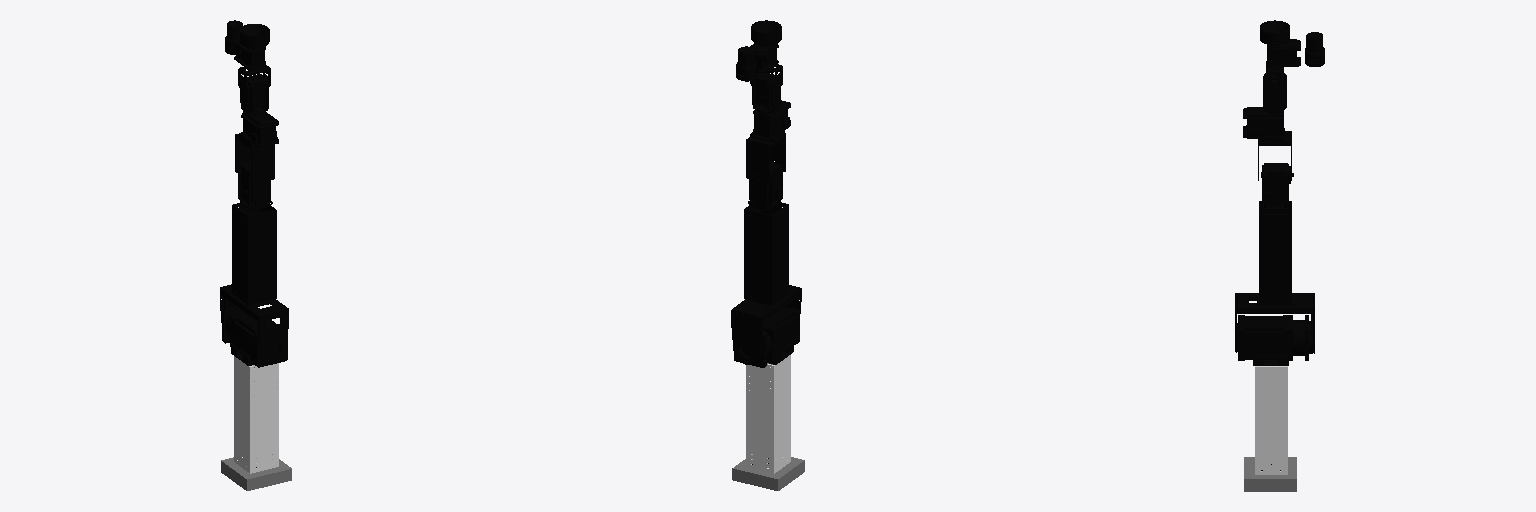
--- What the picture shows (computed from the rendered views, not written in the file) ---
The picture shows the robot from 3 angles, left to right: view 1: azimuth 30°, elevation 25°; view 2: azimuth 150°, elevation 25°; view 3: azimuth 270°, elevation 25°; orthographic projection.
Robot: proarm — 20 links, 19 joints (6 revolute, 13 fixed); root link base_link; default pose: every joint at zero.
Links seen in each view (by area): view 1: link_pilar1, link_pilar2, link_bracket_f54, link_motor_h54, base_link, link_bracket5l, link_motor_mx642, link_motor_mx641, link_motor_mx281, link_eeff, link_motor_mx282; view 2: link_pilar1, link_pilar2, link_bracket_f54, link_motor_h54, link_bracket5l, base_link, link_motor_mx641, link_motor_mx642, link_motor_mx281, link_eeff, link_camera, link_motor_mx282; view 3: link_pilar1, link_pilar2, link_motor_h54, link_bracket_f54, base_link, link_motor_mx641, link_motor_mx642, link_motor_mx282, link_eeff, link_motor_mx281, link_camera.
Link boxes in pixels (x1,y1,x2,y2): link_pilar1: (234, 356, 278, 473); link_pilar2: (232, 203, 276, 304); link_bracket_f54: (220, 284, 288, 360); link_motor_h54: (222, 307, 278, 365); base_link: (221, 457, 291, 490); link_bracket5l: (235, 134, 274, 184); link_motor_mx642: (241, 108, 278, 147); link_motor_mx641: (238, 161, 270, 208); link_motor_mx281: (240, 74, 269, 112); link_eeff: (240, 24, 269, 48); link_motor_mx282: (234, 38, 265, 70); link_pilar1: (746, 355, 790, 473); link_pilar2: (744, 202, 788, 305); link_bracket_f54: (731, 285, 801, 364); link_motor_h54: (734, 308, 798, 367); link_bracket5l: (746, 133, 785, 183); base_link: (732, 457, 804, 490); link_motor_mx641: (749, 162, 782, 208); link_motor_mx642: (753, 100, 790, 137); link_motor_mx281: (751, 73, 780, 110); link_eeff: (751, 20, 781, 45); link_camera: (736, 46, 756, 81); link_motor_mx282: (750, 43, 778, 72); link_pilar1: (1255, 366, 1287, 474); link_pilar2: (1259, 201, 1291, 304); link_motor_h54: (1241, 315, 1312, 360); link_bracket_f54: (1235, 293, 1314, 353); base_link: (1244, 457, 1296, 491); link_motor_mx641: (1261, 163, 1293, 207); link_motor_mx642: (1243, 107, 1283, 138); link_motor_mx282: (1267, 39, 1300, 68); link_eeff: (1260, 20, 1289, 45); link_motor_mx281: (1263, 72, 1286, 110); link_camera: (1305, 32, 1324, 66).
Size in the robot's own frame: 0.08 by 0.1339 by 0.7516 metres.
Meshes: 16 distinct files referenced, 18 mesh visuals loaded (16 binary STL).

URDF robot description (proarm):
<robot  name="proarm">

<gazebo>
  <plugin name="gazebo_ros_control" filename="libgazebo_ros_control.so">
 <robotNamespace>/robot1</robotNamespace>
	 	<robotSimType>gazebo_ros_control/DefaultRobotHWSim</robotSimType>  <!--asdf--> 
  </plugin>
</gazebo>


 <material name="blue">
    <color rgba="0 0 0.8 1"/>
  </material>

  <material name="white">
    <color rgba="0.9 0.9 0.9 1"/>
  </material>
  <material name="pure_white">
    <color rgba="1 1 1 1"/>
  </material>
    <material name="clear_gray">
    <color rgba="0.5 0.5 0.5 1"/>
  </material>
  
  <material name="black">
    <color rgba="0.05 0.05 0.05 0.95"/>
  </material>
  

<!--PLANO BASE 

  <link name="world"/>
   <joint name="fixed" type="fixed">
    <parent link="world"/>
    <child link="base_link"/>
<origin  xyz="0 0.0 0.01"  rpy="0.0 0 0" />
  </joint>-->

<!--PLANO BASE 

  <link name="world"/>
   <joint name="fixed" type="fixed">
    <parent link="world"/>
    <child link="base_link"/>
<origin  xyz="0 0.0 0.01"  rpy="0.0 0 0" />
  </joint>-->

  <link name="base_link">
  <inertial>
      <origin  xyz="0.0 0.0 0.0"  rpy="0 0 0" />
      <mass  value="0.01" />
      <inertia ixx="0.016667333" ixy="0.0" ixz="0.00"  iyy="0.016667333"  iyz="0.0" izz="0.016667333" />
    </inertial>
    <visual>
      <origin rpy="0 0 0" xyz="0 0 0.0"/>
      <geometry>
        <box size="0.08 0.08 .02"/>
        <!--making it slightly bigger in x and z direction-->
      </geometry>
      <material name="clear_gray"/>
    </visual>
    <collision>
      <origin rpy="0 0 0" xyz="0 0 0.0"/>
      <geometry>
        <box size="1 1 .01"/>
        <!--making it slightly bigger in x and z direction-->
      </geometry>
    </collision>
  </link>
  
 
  
  <!--FIRSTMotorBASE   JOINT  1  H42-20-S300-->
   <joint name="joint1" type="revolute">
    <parent link="base_link"/>
    <child link="link_motor_h42"/>
     <origin  xyz="0 0.0 0.005"  rpy="0.0 3.141592654 0.0" />
    <axis  xyz="0 0 1" />
    <limit  lower="-3.1" upper="3.1" effort="10"  velocity="3.57" />
  </joint>

  <link  name="link_motor_h42">
    <inertial>
     <origin  xyz="0 0 0.0"  rpy="0 0 0" />
      <mass  value="0.4" />
      <inertia ixx="0.0001" ixy="0.0" ixz="0.000"  iyy="0.0001"  iyz="0.0" izz="0.0001" />
    </inertial>
    <visual>
      <origin  xyz="0 0 0.0"  rpy="0 0 0" />
      <geometry>     
        <mesh filename="package://arm/meshes/dynamixel_pro/h42.stl" scale="0.001 0.001 0.001"/>
      </geometry>    
       <material name="black"/>     
    </visual>
    <collision>
    <origin  xyz="0 0 0.0"  rpy="0 0 0" />
      <geometry>
        <mesh filename="package://arm/meshes/dynamixel_pro/h42.stl" scale="0.001 0.001 0.001" />
      </geometry>
    </collision>
  </link>


   <!--Connection motor base, pilar-->
   <joint name="joint_motor_h42_base" type="fixed">
    <parent link="link_motor_h42"/>
    <child link="link_pilar1"/>
     <origin  xyz="0.025 0.046 -0.185"  rpy="0 0 0" />
     
  </joint>
  
 <link  name="link_pilar1">
    <inertial>
     <origin  xyz="0 -0.02 0.0"  rpy="0 0 0" />
      <mass  value="0.1" />
      <inertia ixx="0.0001" ixy="0.0" ixz="0.000"  iyy="0.0001"  iyz="0.0" izz="0.0001" />
    </inertial>
    <visual>
      <origin  xyz="0 -0.02 0.0"  rpy="0 0 0" />
      <geometry>     
        <mesh filename="package://arm/meshes/dynamixel_pro/50x50x180.stl" scale="0.001 0.001 0.001"/>
      </geometry>   
       <material name="white"/>
    </visual>
    <collision>
    <origin  xyz="0 -0.02 0.0"  rpy="0 0 0" />
      <geometry>
        <mesh filename="package://arm/meshes/dynamixel_pro/50x50x180.stl" scale="0.001 0.001 0.001" />
      </geometry>
    </collision>
  </link>

  <!--ADAPTADOR para   H54-100-S500-->
   <joint name="joint_conector_frp54" type="fixed">
    <parent link="link_pilar1"/>
    <child link="link_conector_frp54"/>
     <origin  xyz="-0.025 -0.045 -0.006"  rpy="-1.570796327 0.0 0.0" />
 </joint>

 <link  name="link_conector_frp54">
    <inertial>
     <origin  xyz="0 0 0.0"  rpy="0 0 0" />
      <mass  value="0.05" />
      <inertia ixx="0.0001" ixy="0.0" ixz="0.000"  iyy="0.0001"  iyz="0.0" izz="0.0001" />
    </inertial>
    <visual>
      <origin  xyz="0 0 0.0"  rpy="0 0 0" />
      <geometry>     
        <mesh filename="package://arm/meshes/dynamixel_pro/frp54a.stl" scale="0.001 0.001 0.001"/>
      </geometry>      
<material name="black"/>  
    </visual>
    <collision>
    <origin  xyz="0 0 0.0"  rpy="0 0 0" />
      <geometry>
        <mesh filename="package://arm/meshes/dynamixel_pro/frp54a.stl" scale="0.001 0.001 0.001" />
      </geometry>
    </collision>
  </link>


  <!--SEGUNDOMotor    H54-100-S500-->
   <joint name="motor_h54_base" type="fixed">
    <parent link="link_conector_frp54"/>
    <child link="link_motor_h54"/>
    <origin  xyz="0.0 0.03 0.027"  rpy=" 1.570796327 0.0 -1.570796327" />
  </joint>

 <link  name="link_motor_h54">
    <inertial>
     <origin  xyz="0 0 0.0"  rpy="0 0 0" />
      <mass  value="0.8" />
      <inertia ixx="0.0001" ixy="0.0" ixz="0.000"  iyy="0.0001"  iyz="0.0" izz="0.0001" />
    </inertial>
    <visual>
      <origin  xyz="0 0 0.0"  rpy="0 0 0" />
      <geometry>     
        <mesh filename="package://arm/meshes/dynamixel_pro/h54.stl" scale="0.001 0.001 0.001"/>
      </geometry>    
       <material name="black"/>     
    </visual>
    <collision>
    <origin  xyz="0 0 0.0"  rpy="0 0 0" />
      <geometry>
        <mesh filename="package://arm/meshes/dynamixel_pro/h54.stl" scale="0.001 0.001 0.001" />
      </geometry>
    </collision>
  </link>

  <!--Bracket FRP54h JOINT 2 -->
   <joint name="joint2" type="revolute">
    <parent link="link_motor_h54"/>
    <child link="link_bracket_f54"/>
     <origin  xyz="0.0 -0.021 0.0"  rpy="-1.570796327 1.570796327 0" />
     <axis  xyz="0 0 1" />
     <limit  lower="-2.32" upper="2.32" effort="10"  velocity="3.57" />
  </joint>

 <link  name="link_bracket_f54">
    <inertial>
     <origin  xyz="0 0 0.0"  rpy="0 0 0" />
      <mass  value="0.05" />
      <inertia ixx="0.0001" ixy="0.0" ixz="0.000"  iyy="0.0001"  iyz="0.0" izz="0.0001" />
    </inertial>
    <visual>
      <origin  xyz="0 0 0.0"  rpy="0 0 0" />
      <geometry>     
        <mesh filename="package://arm/meshes/dynamixel_pro/frp54h.stl" scale="0.001 0.001 0.001"/>
      </geometry>    
       <material name="black"/>     
    </visual>
    <collision>
    <origin  xyz="0 0 0.0"  rpy="0 0 0" />
      <geometry>
        <mesh filename="package://arm/meshes/dynamixel_pro/frp54h.stl" scale="0.001 0.001 0.001" />
      </geometry>
    </collision>
  </link>


  <!--SEGUNDO PILAR -->
   <joint name="joint_pilar2" type="fixed">
    <parent link="link_bracket_f54"/>
    <child link="link_pilar2"/>
     <origin  xyz="0.025 0.216 0.025"  rpy="1.570796327 0.0 0" />
  </joint>

 <link  name="link_pilar2">
    <inertial>
     <origin  xyz="0 0 0.0"  rpy="0 0 0" />
      <mass  value="0.08" />
      <inertia ixx="0.0001" ixy="0.0" ixz="0.000"  iyy="0.0001"  iyz="0.0" izz="0.0001" />
    </inertial>
    <visual>
      <origin  xyz="0 0 0.0"  rpy="0 0 0" />
      <geometry>
        <mesh filename="package://arm/meshes/dynamixel_pro/50x50x150.stl" scale="0.001 0.001 0.001"/>
      </geometry>
       <material name="black"/>
    </visual>
    <collision>
    <origin  xyz="0 0 0.0"  rpy="0 0 0" />
      <geometry>
        <mesh filename="package://arm/meshes/dynamixel_pro/50x50x150.stl" scale="0.001 0.001 0.001" />
      </geometry>
    </collision>
  </link>


  <!--Junta CONEXION PRIMER MOTOR MX64 -->
   <joint name="joint_conector_mx641" type="fixed">
    <parent link="link_pilar2"/>
    <child link="link_conector_mx641"/>
     <origin  xyz="-0.025 -0.025 -0.003"  rpy="-1.570796327 0.0 0" />
  </joint>

 <link  name="link_conector_mx641">
    <inertial>
     <origin  xyz="0 0 0.0"  rpy="0 0 0" />
      <mass  value="0.01" />
      <inertia ixx="0.0001" ixy="0.0" ixz="0.000"  iyy="0.0001"  iyz="0.0" izz="0.0001" />
    </inertial>
    <visual>
      <origin  xyz="0 0 0.0"  rpy="0 0 0" />
      <geometry>
        <mesh filename="package://arm/meshes/dynamixel_pro/fr05s.stl" scale="0.001 0.001 0.001"/>
      </geometry>
       <material name="black"/>
    </visual>
    <collision>
    <origin  xyz="0 0 0.0"  rpy="0 0 0" />
      <geometry>
        <mesh filename="package://arm/meshes/dynamixel_pro/fr05s.stl" scale="0.001 0.001 0.001" />
      </geometry>
    </collision>
  </link>

  <!--CONEXION PRIMER MOTOR MX64 -->
   <joint name="joint_motor_mx641" type="fixed">
    <parent link="link_conector_mx641"/>
    <child link="link_motor_mx641"/>
     <origin  xyz="0.0 0.0513 0.0"  rpy="0.0 0.0 0.0" />
  </joint>

 <link  name="link_motor_mx641">
    <inertial>
     <origin  xyz="0 0 0.0"  rpy="0 0 0" />
      <mass  value="0.01" />
      <inertia ixx="0.0001" ixy="0.0" ixz="0.000"  iyy="0.0001"  iyz="0.0" izz="0.0001" />
    </inertial>
    <visual>
      <origin  xyz="0 0 0.0"  rpy="0 0 0" />
      <geometry>
        <mesh filename="package://arm/meshes/dynamixel_pro/mx64.stl" scale="0.001 0.001 0.001"/>
      </geometry>
       <material name="black"/>
    </visual>
    <collision>
    <origin  xyz="0 0 0.0"  rpy="0 0 0" />
      <geometry>
        <mesh filename="package://arm/meshes/dynamixel_pro/mx64.stl" scale="0.001 0.001 0.001" />
      </geometry>
    </collision>
  </link>


  <!--JOINT 3 -->
   <joint name="joint3" type="revolute">
    <parent link="link_motor_mx641"/>
    <child link="link_bracket5l"/>
     <origin  xyz="0.0 0.0 0.025"  rpy="0.0 1.570796327 1.570796327" />
     <axis  xyz="1 0 0" />
    <limit  lower="-2.3" upper="2.3" effort="10"  velocity="3.57" />
  </joint>

 <link  name="link_bracket5l">
    <inertial>
     <origin  xyz="-0.0 -0.025 0.07"  rpy="0 0 0" />
      <mass  value="0.04" />
      <inertia ixx="0.0001" ixy="0.0" ixz="0.000"  iyy="0.0001"  iyz="0.0" izz="0.0001" />
    </inertial>
    <visual>
      <origin  xyz="-0.0 -0.025 0.07"  rpy="0 0 0" />
      <geometry>
        <mesh filename="package://arm/meshes/dynamixel_pro/fr05l.stl" scale="0.001 0.001 0.001"/>
      </geometry>
       <material name="black"/>
    </visual>
    <collision>
    <origin  xyz="-0.0 -0.025 0.07"  rpy="0 0 0" />
      <geometry>
        <mesh filename="package://arm/meshes/dynamixel_pro/fr05l.stl" scale="0.001 0.001 0.001" />
      </geometry>
    </collision>
  </link>


  <!--CONEXION SEGUNDO MOTOR MX64 -->
   <joint name="joint_motor_mx642" type="fixed">
    <parent link="link_conector_fr05b"/>
    <child link="link_motor_mx642"/>
     <origin  xyz="0.0 0.0 0.0"  rpy="0 0.0  0.0" />
  </joint>

 <link  name="link_motor_mx642">
    <inertial>
     <origin  xyz="0 0 0.0"  rpy="0 0 0"/>
      <mass  value="0.07" />
      <inertia ixx="0.0001" ixy="0.0" ixz="0.000"  iyy="0.0001"  iyz="0.0" izz="0.0001" />
    </inertial>
    <visual>
      <origin  xyz="0 0 0.0"  rpy="0 0 0" />
      <geometry>
        <mesh filename="package://arm/meshes/dynamixel_pro/mx64.stl" scale="0.001 0.001 0.001"/>
      </geometry>
       <material name="black"/>
    </visual>
    <collision>
    <origin  xyz="0 0 0.0"  rpy="0 0 0" />
      <geometry>
        <mesh filename="package://arm/meshes/dynamixel_pro/mx64.stl" scale="0.001 0.001 0.001" />
      </geometry>
    </collision>
  </link>


 <!--JOINT 4 -->
   <joint name="joint4" type="revolute">
    <parent link="link_motor_mx642"/>
    <child link="link_conector_fr07s"/>
     <origin  xyz="0.00 0.0 0.0235"  rpy="1.570796327 0.0 1.570796327 " />
     <axis  xyz="0 1 0" />
    <limit  lower="-4.14159" upper="4.1459" effort="10"  velocity="3.57" />
  </joint>

 <link  name="link_conector_fr07s">
    <inertial>
     <origin  xyz="0.0 0.0 0.0"  rpy="0 0 0" />
      <mass  value="0.01" />
      <inertia ixx="0.0001" ixy="0.0" ixz="0.000"  iyy="0.0001"  iyz="0.0" izz="0.0001" />
    </inertial>
    <visual>
      <origin  xyz="0.0 0.0 0.0"  rpy="0 0 0" />
      <geometry>
        <mesh filename="package://arm/meshes/dynamixel_pro/fr07s.stl" scale="0.001 0.001 0.001"/>
      </geometry>
       <material name="black"/>
    </visual>
    <collision>
    <origin  xyz="0.0 0.0 0.0"  rpy="0 0 0" />
      <geometry>
        <mesh filename="package://arm/meshes/dynamixel_pro/fr07s.stl" scale="0.001 0.001 0.001" />
      </geometry>
    </collision>
  </link>

  <!--CONEXION PRIMER MOTOR MX28 -->
   <joint name="joint_motor_mx281" type="fixed">
    <parent link="link_conector_fr07s"/>
    <child link="link_motor_mx281"/>
     <origin  xyz="0.0 0.04175 0.0"  rpy="0.0 0.0 0.0" />
  </joint>

 <link  name="link_motor_mx281">
    <inertial>
     <origin  xyz="0 0 0.0"  rpy="0 0 0"/>
      <mass  value="0.06" />
      <inertia ixx="0.0001" ixy="0.0" ixz="0.000"  iyy="0.0001"  iyz="0.0" izz="0.0001" />
    </inertial>
    <visual>
      <origin  xyz="0 0 0.0"  rpy="0 0 0" />
      <geometry>
        <mesh filename="package://arm/meshes/dynamixel_pro/mx28.stl" scale="0.001 0.001 0.001"/>
      </geometry>
       <material name="black"/>
    </visual>
    <collision>
    <origin  xyz="0 0 0.0"  rpy="0 0 0" />
      <geometry>
        <mesh filename="package://arm/meshes/dynamixel_pro/mx28.stl" scale="0.001 0.001 0.001" />
      </geometry>
    </collision>
  </link>

 <!--JOINT  5-->
   <joint name="joint5" type="revolute">
    <parent link="link_motor_mx281"/>
    <child link="link_bracket_f7l"/>
     <origin  xyz="0.00 0.0 0.0"  rpy="0.0 1.570796327 0.0" />
     <axis  xyz="1 0 0" />
    <limit  lower="-2.25619449" upper="2.25619449" effort="10"  velocity="3.57" />
  </joint>

 <link  name="link_bracket_f7l">
    <inertial>
     <origin  xyz="0.0 0.0 0.0"  rpy="0 0 0" />
      <mass  value="0.02" />
      <inertia ixx="0.0001" ixy="0.0" ixz="0.000"  iyy="0.0001"  iyz="0.0" izz="0.0001" />
    </inertial>
    <visual>
      <origin  xyz="0.0 0.0 0.0"  rpy="0 0 0" />
      <geometry>
        <mesh filename="package://arm/meshes/dynamixel_pro/fr07h.stl" scale="0.001 0.001 0.001"/>
      </geometry>
       <material name="black"/>
    </visual>
    <collision>
    <origin  xyz="-0.0 -0.0 0.0"  rpy="0 0 0" />
      <geometry>
        <mesh filename="package://arm/meshes/dynamixel_pro/fr07h.stl" scale="0.001 0.001 0.001" />
      </geometry>
    </collision>
  </link>

<!--JOINT  6-->
   <joint name="joint6" type="revolute">
    <parent link="link_bracket_f7l"/>
    <child link="link_motor_mx282"/>
     <origin  xyz="0.0 0.05 0.0"  rpy="1.570796327 3.1415926 0" />
     <axis  xyz="0 0 1" />
    <limit  lower="-3.14159" upper="3.1459" effort="10"  velocity="5.57" />
  </joint>

 <link  name="link_motor_mx282">
    <inertial>
     <origin  xyz="0.00 0.0 0.0"  rpy="0 0 0" />
      <mass  value="0.06" />
      <inertia ixx="0.0001" ixy="0.0" ixz="0.000"  iyy="0.0001"  iyz="0.0" izz="0.0001" />
    </inertial>
    <visual>
      <origin  xyz="0.00 0.0 0.0"  rpy="0 0 0" />
      <geometry>
        <mesh filename="package://arm/meshes/dynamixel_pro/mx28.stl" scale="0.001 0.001 0.001"/>
      </geometry>
       <material name="black"/>
    </visual>
    <collision>
    <origin  xyz="0.00 0.0 0.0"  rpy="0 0 0" />
      <geometry>
        <mesh filename="package://arm/meshes/dynamixel_pro/mx28.stl" scale="0.001 0.001 0.001" />
      </geometry>
    </collision>
  </link>




 <!--OTHER ACCESORIES WITH FIXED JOINTS-->



   <joint name="joint_bearing_i54" type="fixed">
    <parent link="link_motor_h54"/>
    <child link="link_bearing_i54"/>
     <origin  xyz="0.0 -0.075 0.0"  rpy="1.570796327 0 0.0" />
  </joint>

 <link  name="link_bearing_i54">
    <inertial>
     <origin  xyz="0 0 0.0"  rpy="0 0 0" />
      <mass  value="0.01" />
      <inertia ixx="0.0001" ixy="0.0" ixz="0.000"  iyy="0.0001"  iyz="0.0" izz="0.0001" />
    </inertial>
    <visual>
      <origin  xyz="0 0 0.0"  rpy="0 0 0" />
      <geometry>     
        <mesh filename="package://arm/meshes/dynamixel_pro/frp54i.stl" scale="0.001 0.001 0.001"/>
      </geometry>    
       <material name="black"/>
    </visual>
    <collision>
    <origin  xyz="0 0 0.0"  rpy="0 0 0" />
      <geometry>
        <mesh filename="package://arm/meshes/dynamixel_pro/frp54i.stl" scale="0.001 0.001 0.001" />
      </geometry>
    </collision>
  </link>

 <joint name="joint_conector_f05b" type="fixed">
    <parent link="link_bracket5l"/>
    <child link="link_conector_fr05b"/>
     <origin  xyz="0.0255 -0.0 0.086"  rpy="0.0 0 1.570796327" />
  </joint>

 <link  name="link_conector_fr05b">
    <inertial>
     <origin  xyz="0 0 0.0"  rpy="0 0 0" />
      <mass  value="0.01" />
      <inertia ixx="0.0001" ixy="0.0" ixz="0.000"  iyy="0.0001"  iyz="0.0" izz="0.0001" />
    </inertial>
    <visual>
      <origin  xyz="0 0 0.0"  rpy="0 0 0" />
      <geometry>     
        <mesh filename="package://arm/meshes/dynamixel_pro/fr05b.stl" scale="0.001 0.001 0.001"/>
      </geometry>    
       <material name="black"/>
    </visual>
    <collision>
    <origin  xyz="0 0 0.0"  rpy="0 0 0" />
      <geometry>
        <mesh filename="package://arm/meshes/dynamixel_pro/fr05b.stl" scale="0.001 0.001 0.001" />
      </geometry>
    </collision>
  </link>

 <joint name="joint_eeff" type="fixed">
    <parent link="link_motor_mx282"/>
    <child link="link_eeff"/>
     <origin  xyz="0.0 0.0 -0.014"  rpy="0.0 -3.141592654 0.0" />
  </joint>

 <link  name="link_eeff">
    <inertial>
     <origin  xyz="0 0 0.0"  rpy="0 0 0" />
      <mass  value="0.01" />
      <inertia ixx="0.0001" ixy="0.0" ixz="0.000"  iyy="0.0001"  iyz="0.0" izz="0.0001" />
    </inertial>
    <visual>
      <origin  xyz="0 0 0.0"  rpy="0 0 0" />
      <geometry>     
        <mesh filename="package://arm/meshes/dynamixel_pro/eeff.stl" scale="0.001 0.001 0.001"/>
      </geometry>    
       <material name="black"/>
    </visual>
    <collision>
    <origin  xyz="0 0 0.0"  rpy="0 0 0" />
      <geometry>
        <mesh filename="package://arm/meshes/dynamixel_pro/eeff.stl" scale="0.001 0.001 0.001" />
      </geometry>
    </collision>
  </link>

 <joint name="joint_camera" type="fixed">
    <parent link="link_eeff"/>
    <child link="link_camera"/>
     <origin  xyz="0.0 -0.06 -0.018"  rpy="0.0 0.0 0.0" />
  </joint>

 <link  name="link_camera">
    <inertial>
     <origin  xyz="0 0 0.0"  rpy="0 0 0" />
      <mass  value="0.01" />
      <inertia ixx="0.0001" ixy="0.0" ixz="0.000"  iyy="0.0001"  iyz="0.0" izz="0.0001" />
    </inertial>
    <visual>
      <origin  xyz="0 0 0.0"  rpy="0 0 0" />
      <geometry>     
        <mesh filename="package://arm/meshes/dynamixel_pro/basler_pulse_camera.stl" scale="0.008 0.008 0.008"/>
      </geometry>    
       <material name="black"/>
    </visual>
    <collision>
    <origin  xyz="0 0 0.0"  rpy="0 0 0" />
      <geometry>
        <mesh filename="package://arm/meshes/dynamixel_pro/basler_pulse_camera.stl" scale="0.008 0.008 0.008" />
      </geometry>
    </collision>
  </link>
  <joint name="cam_optical_joint" type="fixed">
      <origin xyz="-0.01 0.05 0.05" rpy="0 -1.570796327 1.570796327" />
      <parent link="link_camera" />
      <child link="cam_optical_frame"/>
    </joint>
  
    <link name="cam_optical_frame"/>    

  
   <transmission name="tran1">
    <type>transmission_interface/SimpleTransmission</type>
    <joint name="joint1">
     <hardwareInterface>hardware_interface/PositionJointInterface</hardwareInterface>
     </joint>
    <actuator name="motor1">
      <hardwareInterface>hardware_interface/PositionJointInterface</hardwareInterface>
      <mechanicalReduction>1</mechanicalReduction>
    </actuator>
  </transmission>

   <transmission name="tran2">
    <type>transmission_interface/SimpleTransmission</type>
    <joint name="joint2">
     <hardwareInterface>hardware_interface/PositionJointInterface</hardwareInterface>
     </joint>
    <actuator name="motor2">
      <hardwareInterface>hardware_interface/PositionJointInterface</hardwareInterface>
      <mechanicalReduction>1</mechanicalReduction>
    </actuator>
  </transmission>

   <transmission name="tran3">
    <type>transmission_interface/SimpleTransmission</type>
    <joint name="joint3">
     <hardwareInterface>hardware_interface/PositionJointInterface</hardwareInterface>
     </joint>
    <actuator name="motor3">
      <hardwareInterface>hardware_interface/PositionJointInterface</hardwareInterface>
      <mechanicalReduction>1</mechanicalReduction>
    </actuator>
  </transmission>

   <transmission name="tran4">
    <type>transmission_interface/SimpleTransmission</type>
    <joint name="joint4">
     <hardwareInterface>hardware_interface/PositionJointInterface</hardwareInterface>
     </joint>
    <actuator name="motor4">
      <hardwareInterface>hardware_interface/PositionJointInterface</hardwareInterface>
      <mechanicalReduction>1</mechanicalReduction>
    </actuator>
  </transmission>
   <transmission name="tran5">
    <type>transmission_interface/SimpleTransmission</type>
    <joint name="joint5">
     <hardwareInterface>hardware_interface/PositionJointInterface</hardwareInterface>
     </joint>
    <actuator name="motor5">
      <hardwareInterface>hardware_interface/PositionJointInterface</hardwareInterface>
      <mechanicalReduction>1</mechanicalReduction>
    </actuator>
  </transmission>
  
  <transmission name="tran6">
    <type>transmission_interface/SimpleTransmission</type>
    <joint name="joint6">
     <hardwareInterface>hardware_interface/PositionJointInterface</hardwareInterface>
     </joint>
    <actuator name="motor6">
      <hardwareInterface>hardware_interface/PositionJointInterface</hardwareInterface>
      <mechanicalReduction>1</mechanicalReduction>
    </actuator>
  </transmission>

  <gazebo reference="base_link">
      <gravity>true</gravity>
       <self_collide>true</self_collide>
      <material value="Gazebo/White" />
    </gazebo>

  <gazebo reference="link_motor_h42">
      <gravity>true</gravity>
       <self_collide>true</self_collide>
      <material value="Gazebo/Black" />
    </gazebo>

    <gazebo reference="link_pilar1">
      <gravity>true</gravity>
       <self_collide>true</self_collide>
      <material value="Gazebo/White" />
    </gazebo>

  <gazebo reference="link_motor_h54">
      <gravity>true</gravity>
       <self_collide>true</self_collide>
      <material value="Gazebo/Black" />
    </gazebo>
   
 <gazebo reference="link_conector_frp54">
      <gravity>true</gravity>
       <self_collide>true</self_collide>
      <material value="Gazebo/Black" />
    </gazebo>

 <gazebo reference="link_bracket_f54">
      <gravity>true</gravity>
       <self_collide>true</self_collide>
      <material value="Gazebo/Black" />
    </gazebo>

 <gazebo reference="link_bearing_i54">
      <gravity>true</gravity>
       <self_collide>true</self_collide>
      <material value="Gazebo/Black" />
    </gazebo>

 <gazebo reference="link_pilar2">
      <gravity>true</gravity>
       <self_collide>true</self_collide>
      <material value="Gazebo/White" />
    </gazebo>
 <gazebo reference="link_motor_mx641">
      <gravity>true</gravity>
       <self_collide>true</self_collide>
      <material value="Gazebo/Black" />
    </gazebo>
 <gazebo reference="link_motor_mx642">
      <gravity>true</gravity>
       <self_collide>true</self_collide>
      <material value="Gazebo/Black" />
    </gazebo>
<gazebo reference="link_conector_fr07s">
      <gravity>true</gravity>
       <self_collide>true</self_collide>
      <material value="Gazebo/White" />
    </gazebo>
<gazebo reference="link_motor_mx281">
      <gravity>true</gravity>
       <self_collide>true</self_collide>
      <material value="Gazebo/Black" />
    </gazebo>
<gazebo reference="link_bracket_f7l">
      <gravity>true</gravity>
       <self_collide>true</self_collide>
      <material value="Gazebo/White" />
    </gazebo>
<gazebo reference="link_motor_mx282">
      <gravity>true</gravity>
       <self_collide>true</self_collide>
      <material value="Gazebo/Black" />
    </gazebo>
<gazebo reference="link_eeff">
      <gravity>true</gravity>
       <self_collide>true</self_collide>
      <material value="Gazebo/Red" />
    </gazebo>
<gazebo reference="link_camera">
      <gravity>true</gravity>
       <self_collide>true</self_collide>
      <material value="Gazebo/Red" />
    </gazebo>
<gazebo reference="cam_optical_frame">
      <gravity>true</gravity>
       <self_collide>true</self_collide>
      <material value="Gazebo/Red" />
    </gazebo>


 <gazebo reference="cam_optical_frame">
	       <turnGravityOff>true</turnGravityOff>
		<sensor type="camera" name="cam_camera_sensor">
		  <update_rate>30.0</update_rate>
		  <camera>
		     <horizontal_fov>1.3962634</horizontal_fov> <!--80-->
		    <image>
		      <format>R8G8B8</format>
		      <width>640</width>
		      <height>480</height>
		    </image>
		    <clip>
		      <near>0.01</near>
		      <far>90</far>
		    </clip>
		  </camera>

		  <plugin name="cam_camera_controller" filename="libgazebo_ros_camera.so">
		    <cameraName>cam</cameraName>
		  <imageTopicName>image_raw</imageTopicName>
		    <cameraInfoTopicName>camera_info</cameraInfoTopicName>
		    <frameName>cam_optical_frame</frameName>
		  <hackBaseline>0.07</hackBaseline>
		  <distortionK1>0.0</distortionK1>
		  <distortionK2>0.0</distortionK2>
		  <distortionK3>0.0</distortionK3>
		  <distortionT1>0.0</distortionT1>
		  <distortionT2>0.0</distortionT2>
		  </plugin>
		</sensor>
	    </gazebo>



</robot>
